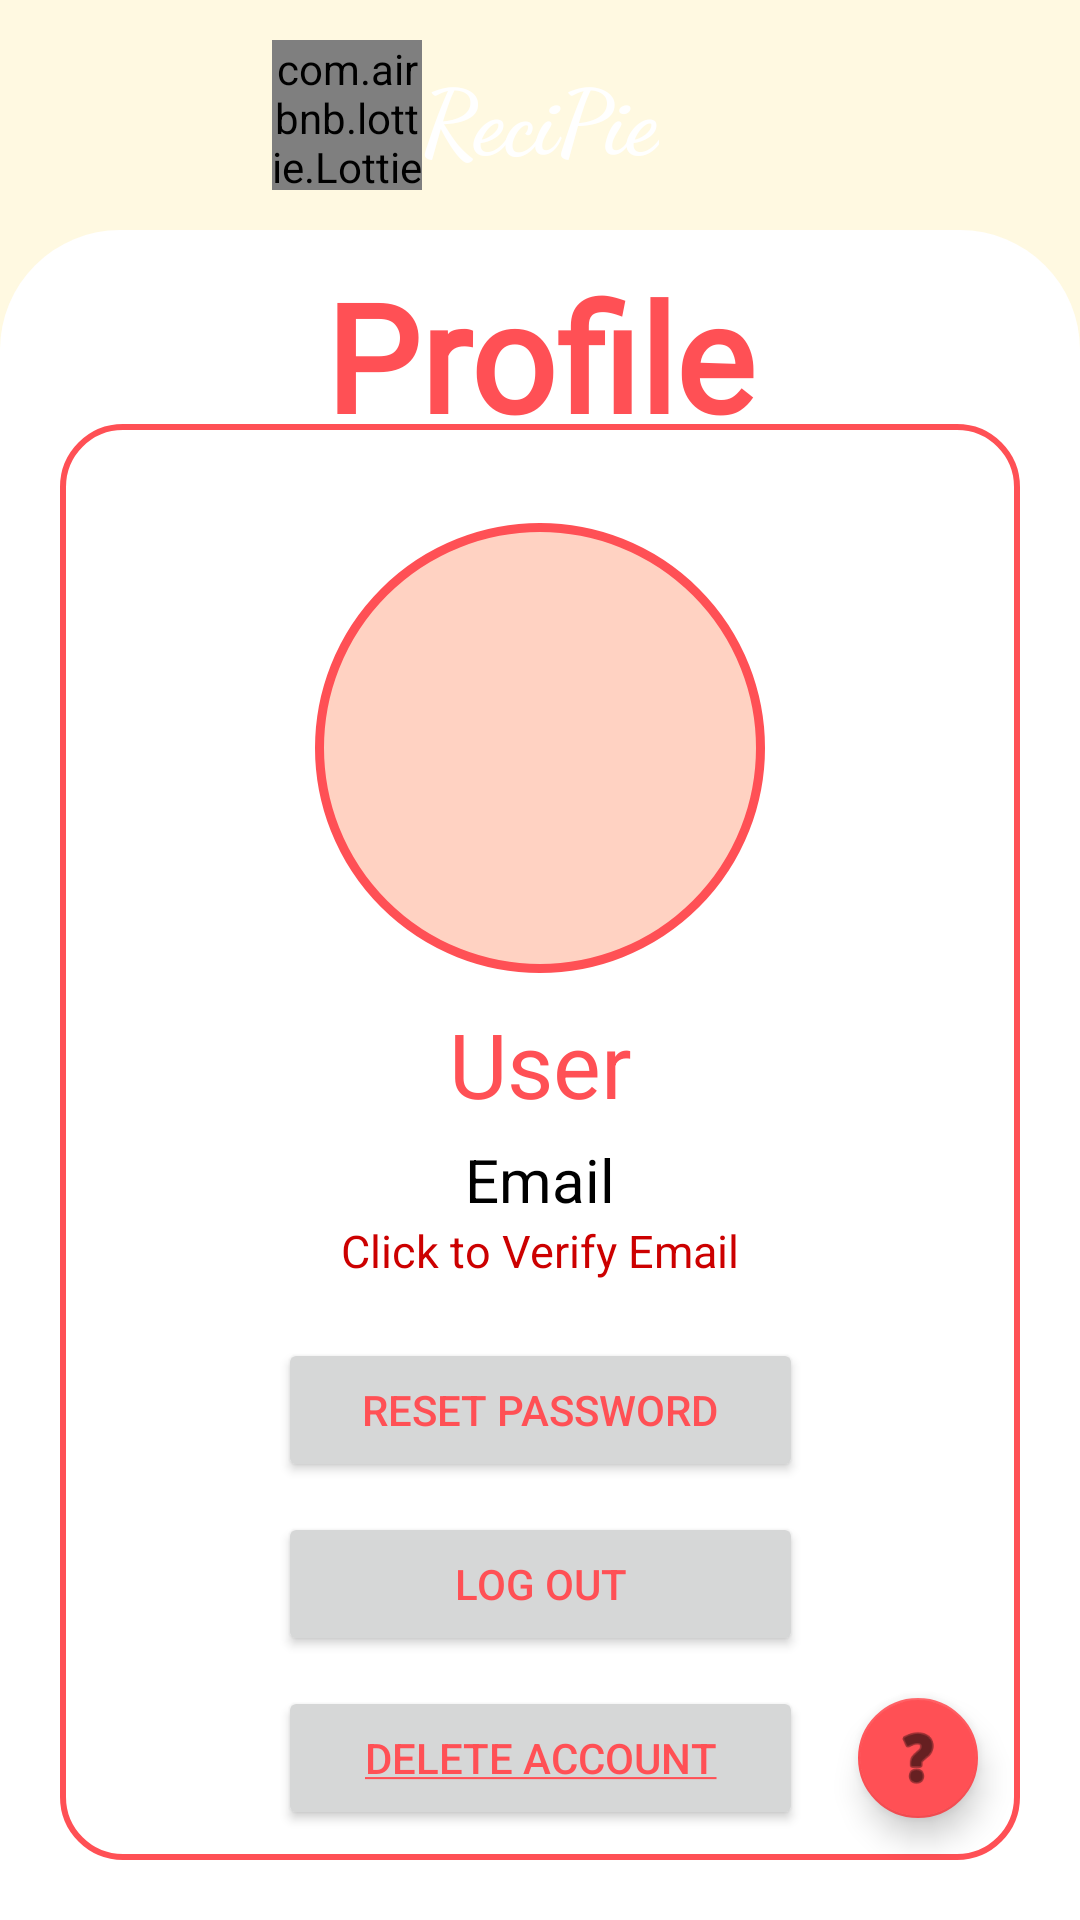

Where to tap for icons on this 1080 × 1920 app screen, as (x,y):
help: (919,1764)
